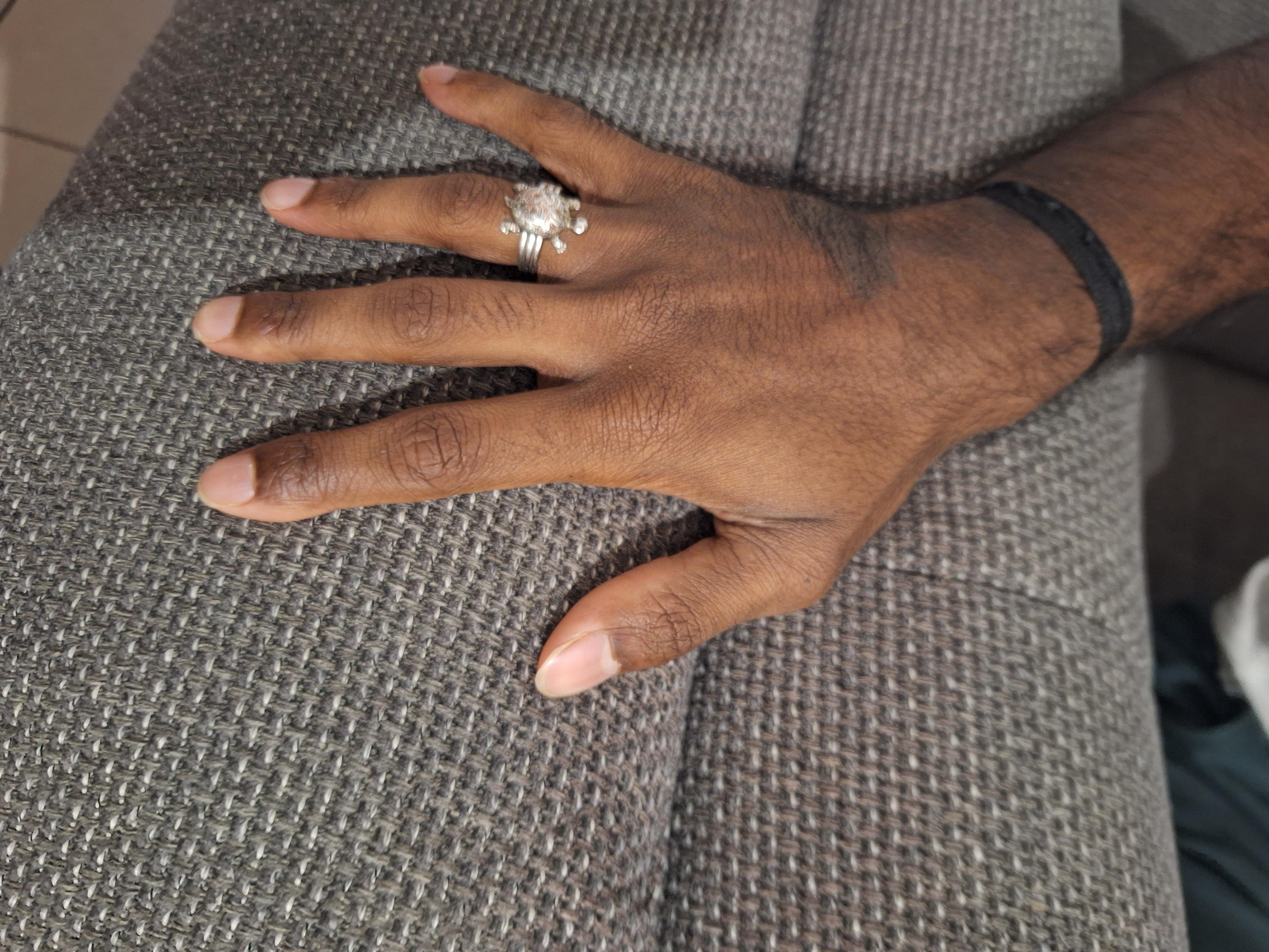Fingernail: (536, 630, 619, 698), (198, 454, 255, 509), (192, 296, 242, 344), (261, 179, 314, 210), (419, 65, 459, 84)
